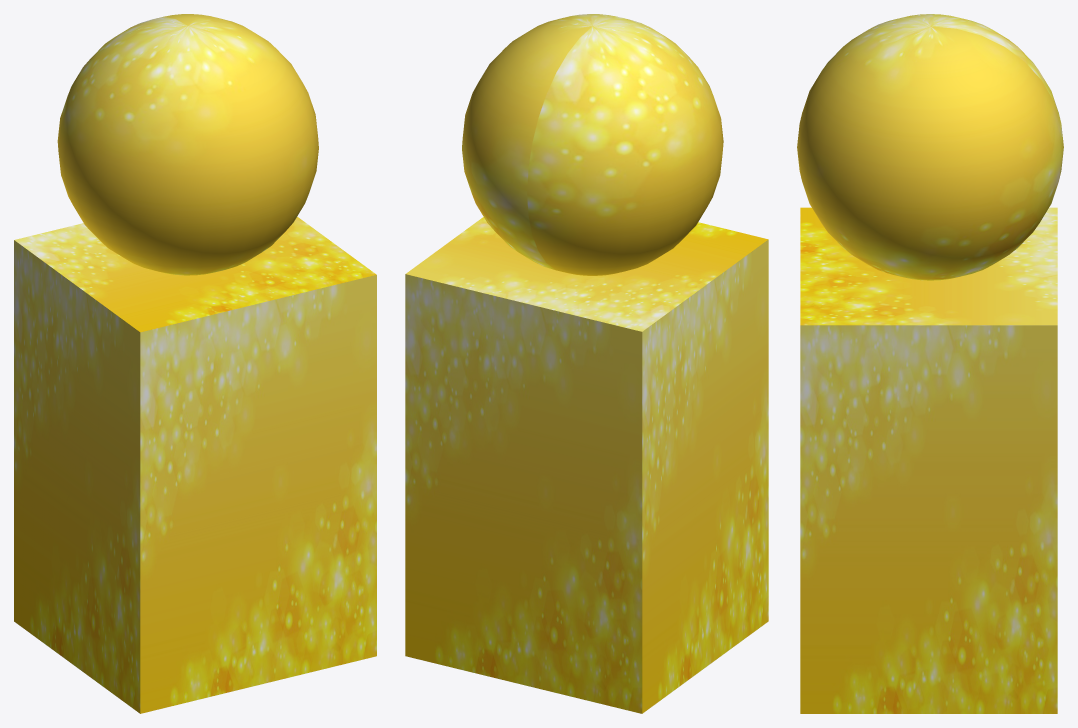
Rendered from hito3.FBX.
3 renders of one model, left to right at view 1: azimuth 30°, elevation 25°; view 2: azimuth 150°, elevation 25°; view 3: azimuth 270°, elevation 25°, orthographic.
Visible parts, largest first — view 1: Box001, Sphere001; view 2: Box001, Sphere001; view 3: Box001, Sphere001.
Part boxes in pixels (bbox=[...]): Box001: bbox=[14, 216, 376, 713]; Sphere001: bbox=[57, 14, 318, 275]; Box001: bbox=[405, 217, 768, 713]; Sphere001: bbox=[462, 14, 723, 275]; Box001: bbox=[800, 207, 1057, 713]; Sphere001: bbox=[797, 14, 1063, 280].
Bounding box in the file's own units: 10.89 × 10.37 × 26.83.
Materials: 1 (1 with a texture image).
